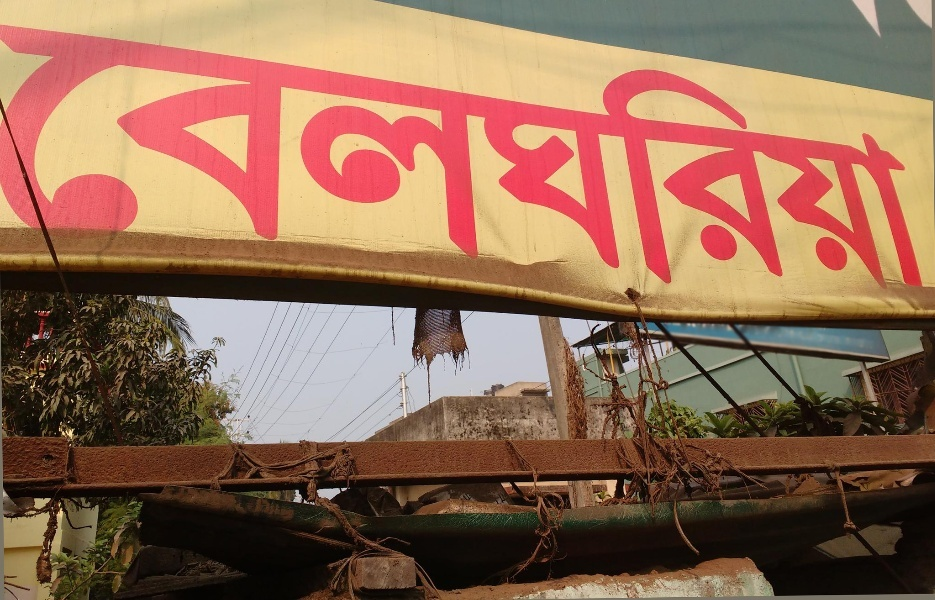text: (17, 1, 32, 291), (33, 1, 48, 291), (49, 1, 64, 291), (65, 1, 80, 291), (81, 1, 96, 291), (97, 1, 112, 291), (113, 1, 128, 291), (129, 1, 144, 291), (145, 1, 160, 291), (161, 1, 176, 291), (177, 1, 192, 291), (193, 1, 208, 291), (209, 1, 224, 291), (225, 1, 240, 291), (241, 1, 256, 291), (257, 1, 272, 291), (273, 1, 288, 291), (289, 1, 304, 291), (305, 1, 320, 291), (321, 1, 336, 291), (337, 1, 352, 291), (353, 1, 368, 291), (369, 1, 384, 291), (385, 1, 400, 291), (401, 1, 416, 291), (417, 1, 432, 291), (433, 1, 448, 291), (449, 1, 464, 291), (465, 1, 480, 291), (481, 1, 496, 291), (497, 1, 512, 291), (513, 1, 528, 291), (529, 1, 544, 291), (545, 1, 560, 291), (561, 1, 576, 291), (577, 1, 592, 291), (593, 1, 608, 291), (609, 1, 624, 291), (625, 1, 640, 291), (641, 1, 656, 291), (657, 1, 672, 291), (673, 1, 688, 291), (689, 1, 704, 291), (705, 1, 720, 291), (721, 1, 736, 291), (737, 1, 752, 291), (753, 1, 768, 291), (769, 1, 784, 291), (785, 1, 800, 291), (801, 1, 816, 291), (817, 1, 832, 291), (833, 1, 848, 291), (849, 1, 864, 291), (865, 1, 880, 291), (881, 1, 896, 291), (897, 1, 912, 291), (3, 1, 16, 291), (913, 1, 925, 291), (673, 316, 688, 353), (689, 316, 704, 353), (705, 316, 720, 353), (721, 316, 736, 353), (737, 316, 752, 353), (753, 316, 768, 353), (769, 316, 784, 353), (785, 316, 800, 353), (801, 316, 816, 353), (817, 316, 832, 353), (833, 316, 848, 353), (849, 316, 864, 353), (865, 316, 880, 353), (658, 316, 672, 353), (881, 316, 883, 353)
